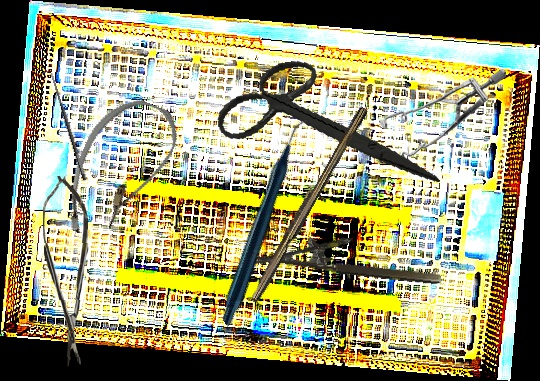Cannula: (52, 86, 187, 255)
Handpiece: (155, 118, 378, 327)
Hook Surgical: (40, 68, 89, 184)
Iris Scissors: (210, 41, 440, 215)
Micro Scissor: (42, 175, 91, 368)
Needle Holder: (248, 226, 445, 287)
Scalpel Handle: (246, 102, 369, 306)
Speculum: (378, 66, 506, 166)
